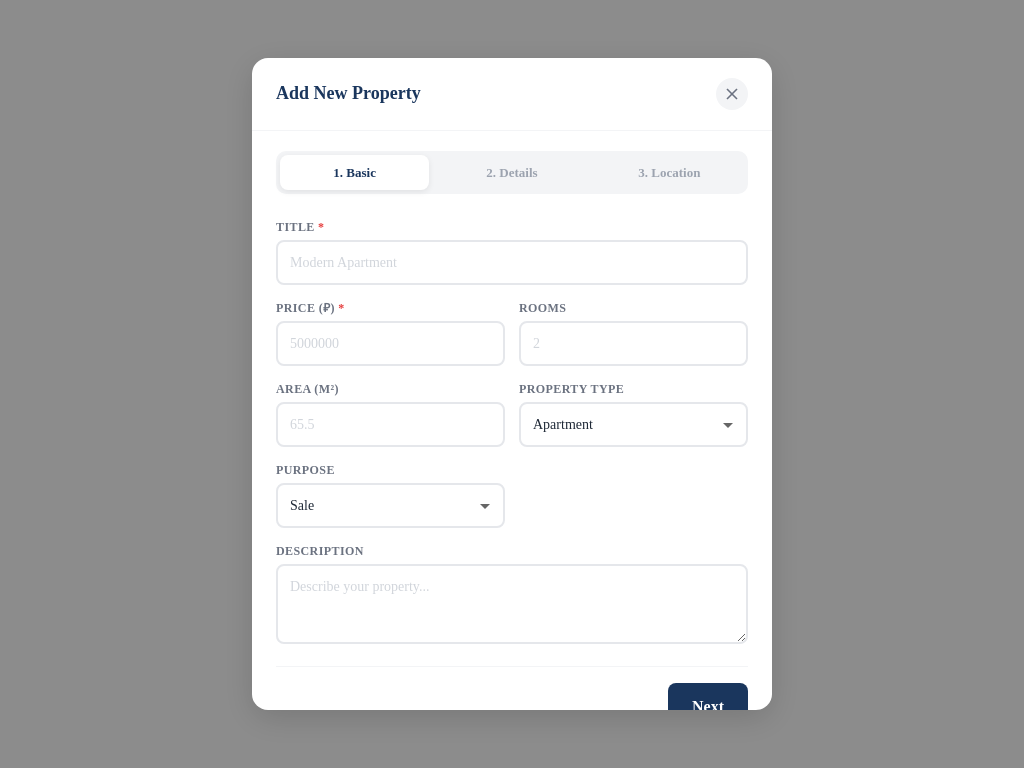
Test case: PropertyFormModal › Step navigation › goes back from step 2 to step 1
This screenshot has width=1024, height=768.
What coordinates should you click on to do the following:
click the button "Next"
I would click on:
 (708, 707)
Its box is 668,683 -> 748,731.
(page scrolled)
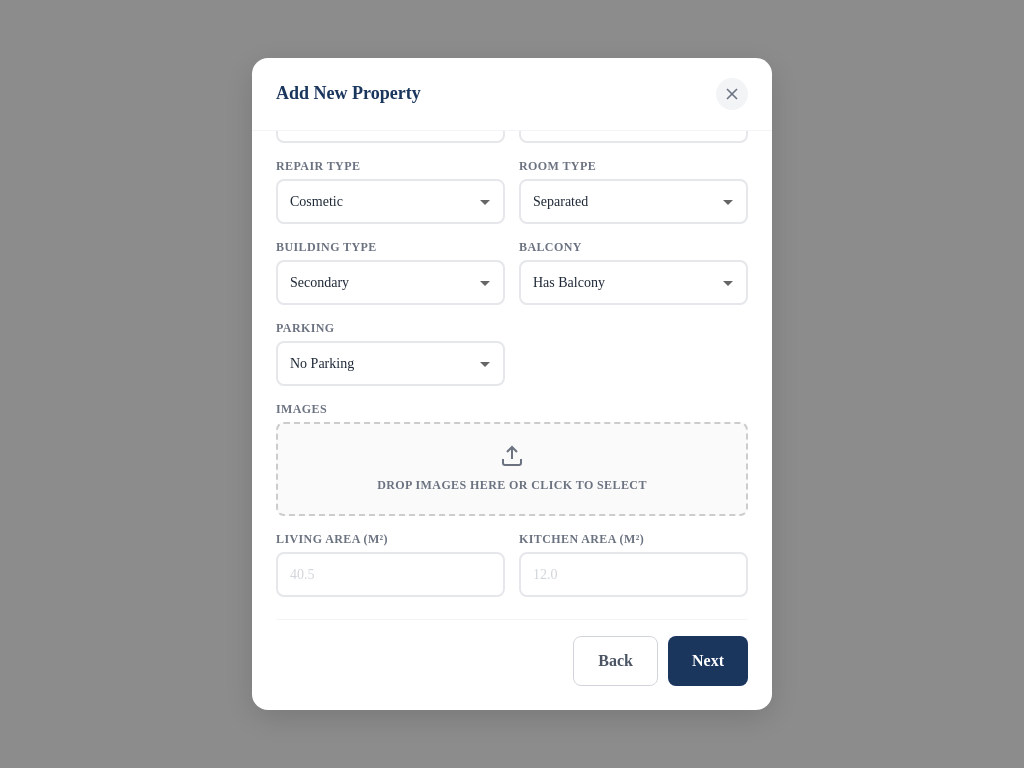
What coordinates should you click on to do the following:
click the button "Back"
I would click on:
 (616, 661)
Its box is 573,636 -> 658,686.
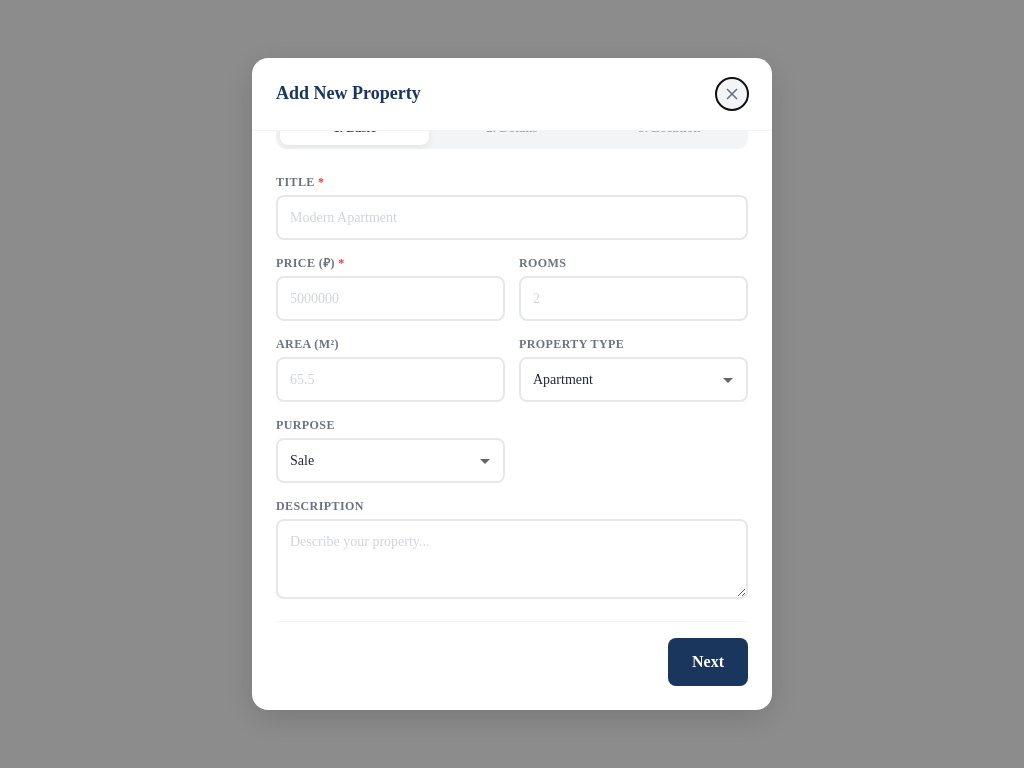
Now the field with placeholder "Modern Apartment" is shown, box 276,195 -> 748,240
